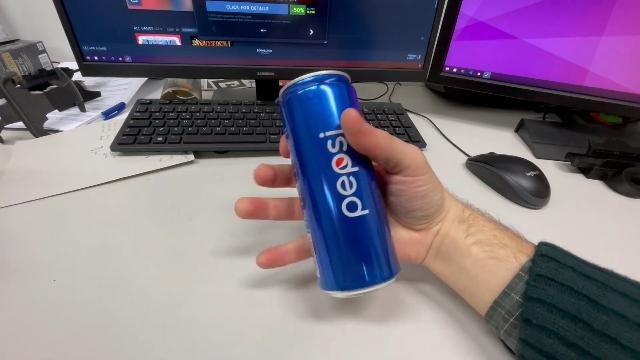Pepsi: (278, 69, 404, 301)
